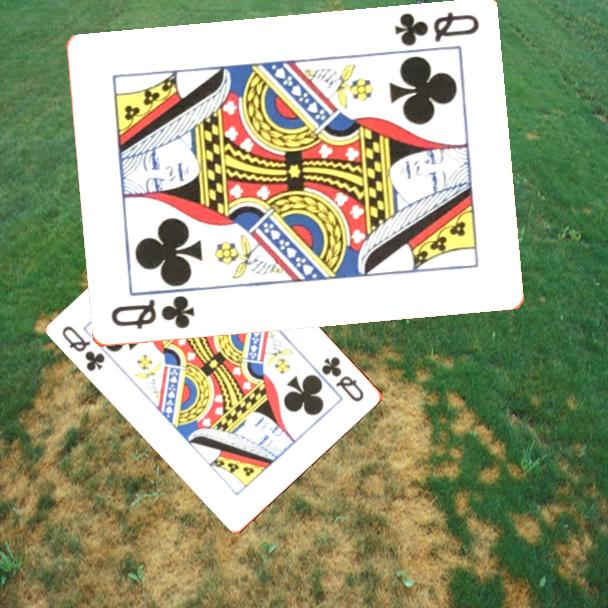c12: (390, 9, 482, 50), (107, 292, 197, 333), (59, 322, 109, 374), (318, 353, 367, 405)
